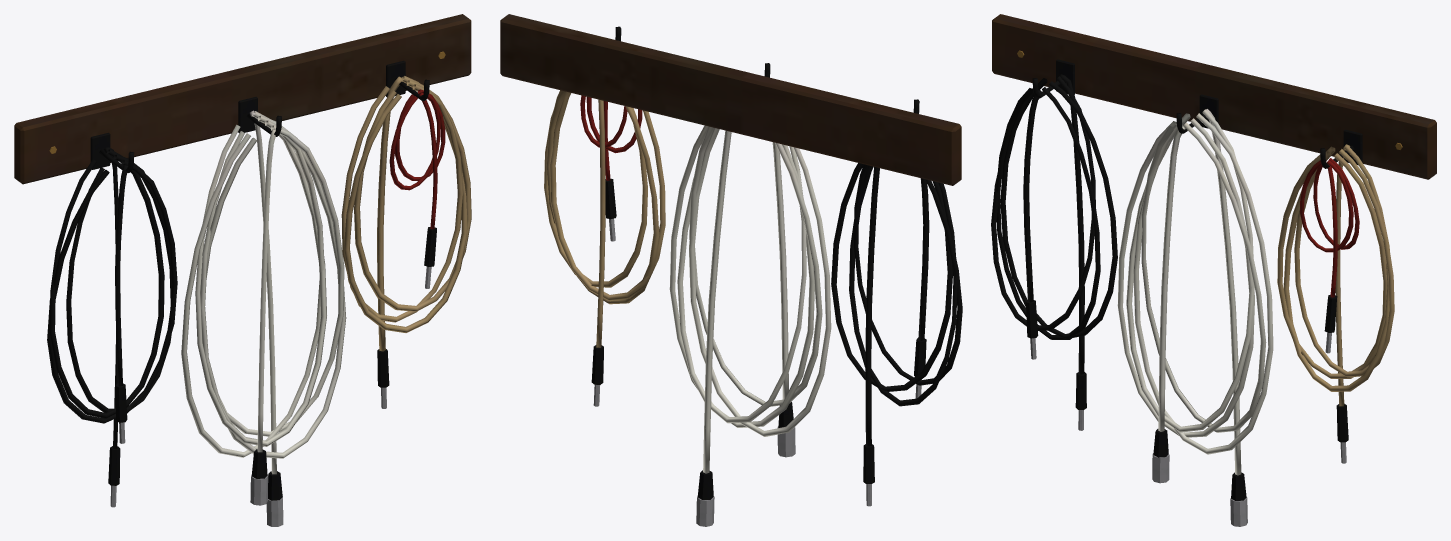
Rendered from cable-hooks.glb.
The picture shows the model from 3 angles, left to right: view 1: azimuth 30°, elevation 25°; view 2: azimuth 150°, elevation 25°; view 3: azimuth 330°, elevation 25°; orthographic projection. The views are drawn at different scales.
Visible parts, largest first — view 1: cable_hooks; view 2: cable_hooks; view 3: cable_hooks.
Boxes of the visible parts, box(x1,y1,x2,y2) form: cable_hooks: box(14, 14, 471, 526); cable_hooks: box(500, 14, 962, 526); cable_hooks: box(991, 14, 1436, 526).
Bounding box in the file's own units: 0.58 × 0.5622 × 0.0991.
Materials: 1 (1 with a texture image).
